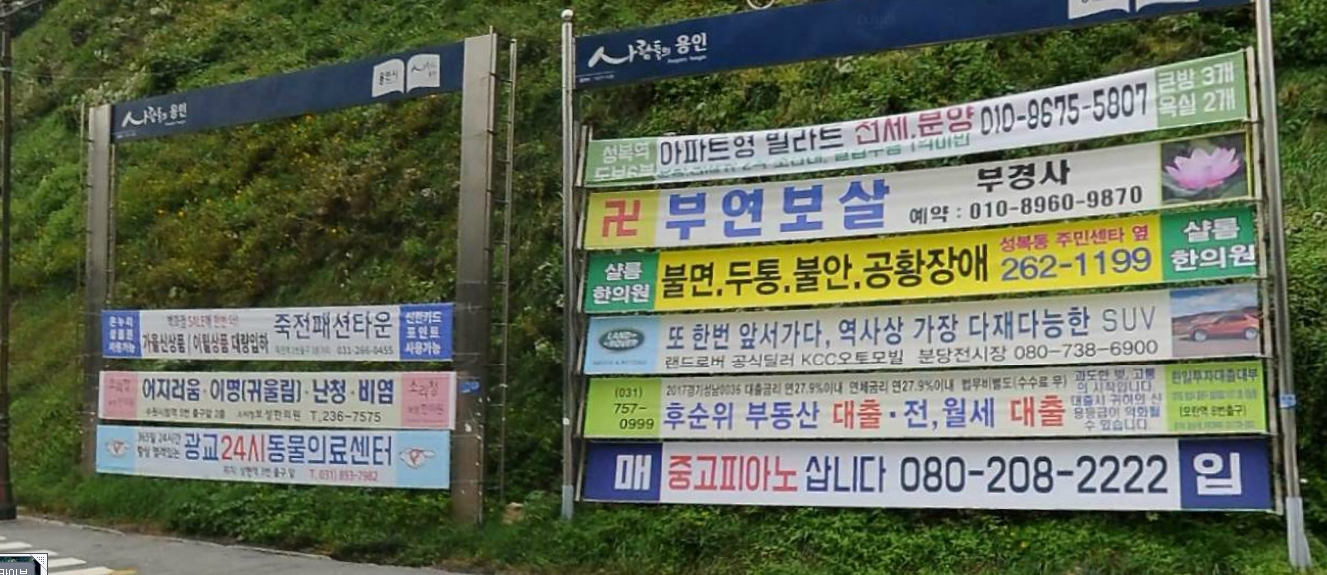banner: (568, 43, 1272, 190), (567, 131, 1257, 259), (572, 202, 1282, 311), (573, 286, 1273, 375), (582, 438, 1283, 523), (592, 374, 1279, 437), (86, 293, 460, 370), (85, 365, 482, 433), (75, 427, 462, 492)
